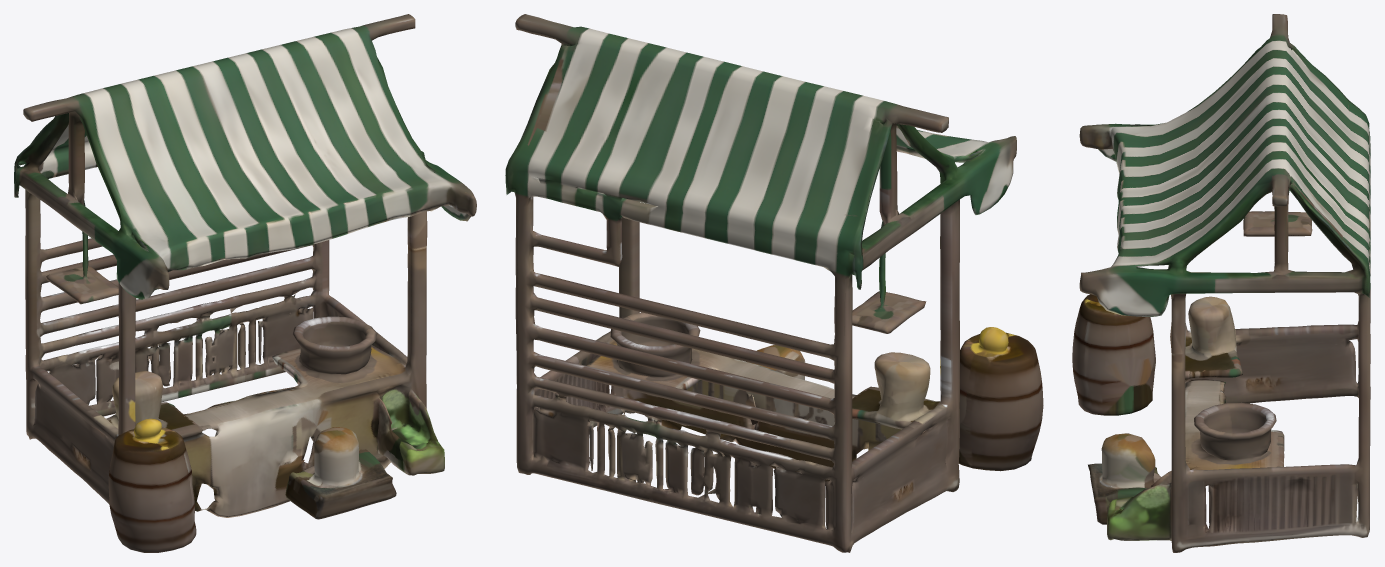
The model's file is market1.fbx.
The picture shows the model from 3 angles, left to right: view 1: azimuth 30°, elevation 25°; view 2: azimuth 150°, elevation 25°; view 3: azimuth 270°, elevation 25°; orthographic projection. The views are drawn at different scales.
Parts seen in each view (by area): view 1: model; view 2: model; view 3: model.
Boxes of the visible parts, x1,y1,x2,y2 form: model: (14, 14, 476, 552); model: (505, 14, 1043, 552); model: (1072, 14, 1370, 552).
Size of the model in its own units: 1257 by 1277 by 860.
